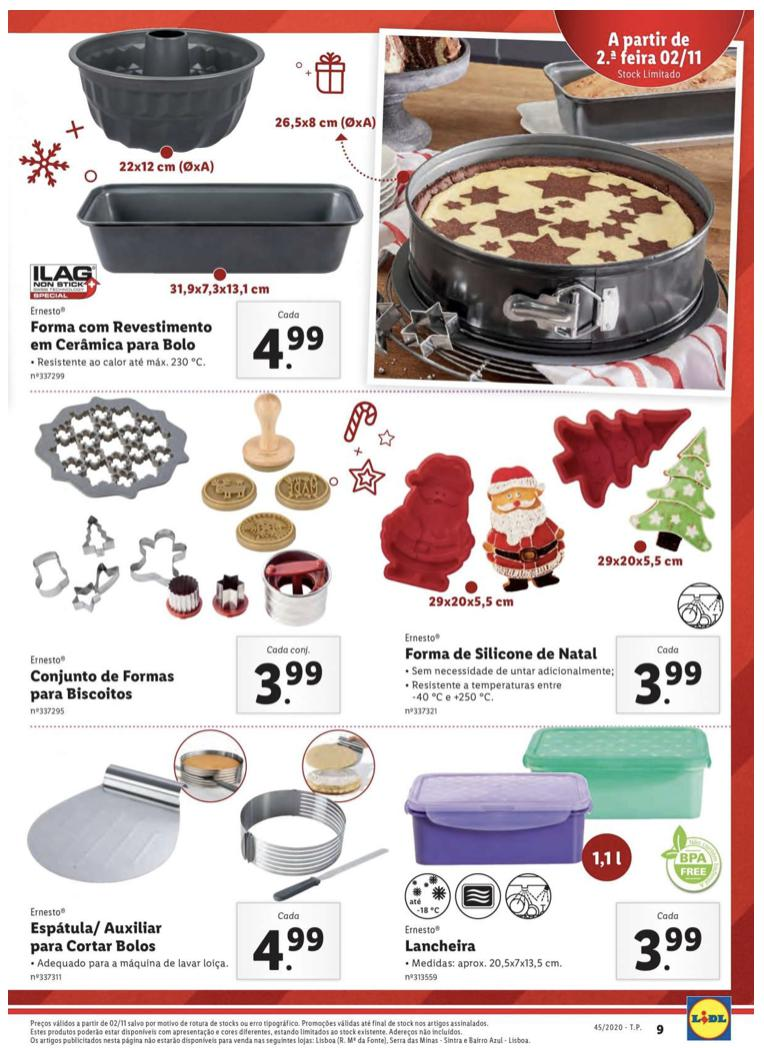name: (27, 316, 218, 356), (30, 917, 162, 958), (32, 668, 180, 704), (401, 639, 601, 665), (401, 937, 479, 956)
price: (246, 923, 326, 976), (250, 656, 327, 708), (631, 656, 704, 708), (630, 925, 706, 972), (252, 325, 326, 372)
product: (352, 393, 728, 719), (24, 24, 354, 386), (23, 386, 352, 720), (20, 721, 382, 988), (382, 728, 727, 988)
